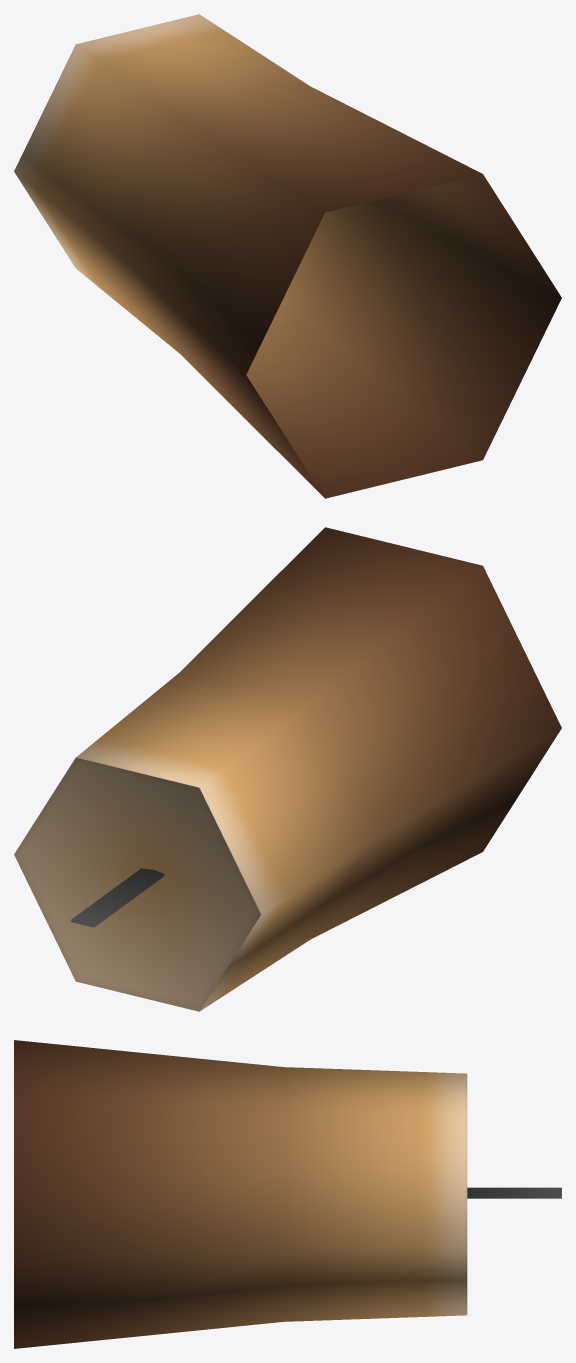
File: Candle_C.fbx
3 renders of one model, top to bottom at view 1: azimuth 30°, elevation 25°; view 2: azimuth 150°, elevation 25°; view 3: azimuth 270°, elevation 25°, orthographic. The views are drawn at different scales.
Parts seen in each view (by area): view 1: Candle_C; view 2: Candle_C; view 3: Candle_C.
Part boxes in pixels (x1,y1,x2,y2): Candle_C: (14, 14, 561, 498); Candle_C: (14, 527, 561, 1011); Candle_C: (14, 1040, 561, 1348).
Bounding box in the file's own units: 0.177 × 0.1533 × 0.3128.
